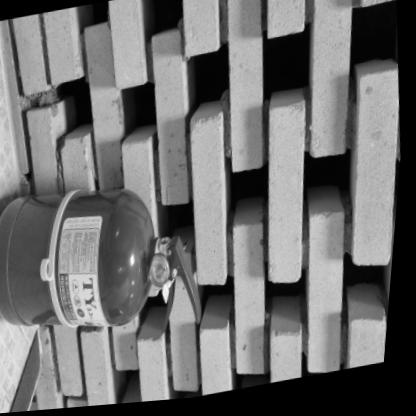FE: (0, 170, 216, 365)
